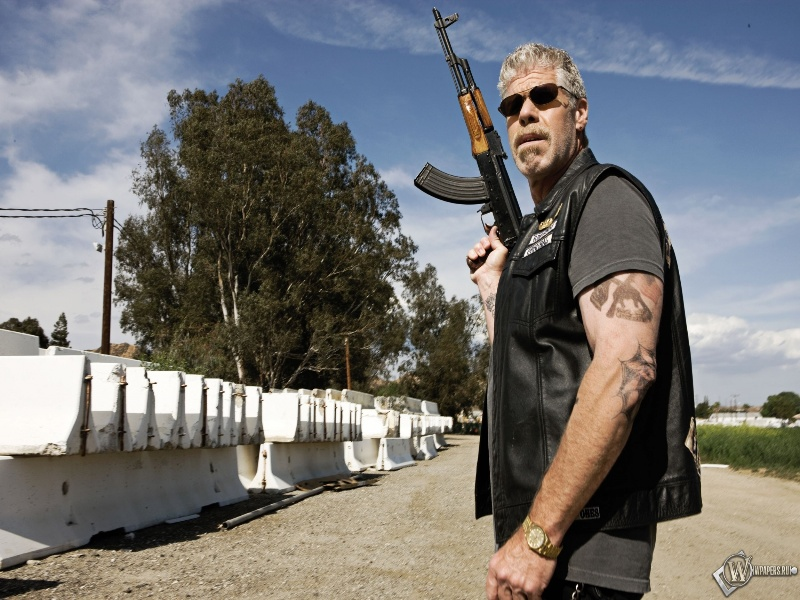person: (468, 44, 704, 600)
weapon: (413, 6, 523, 270)
